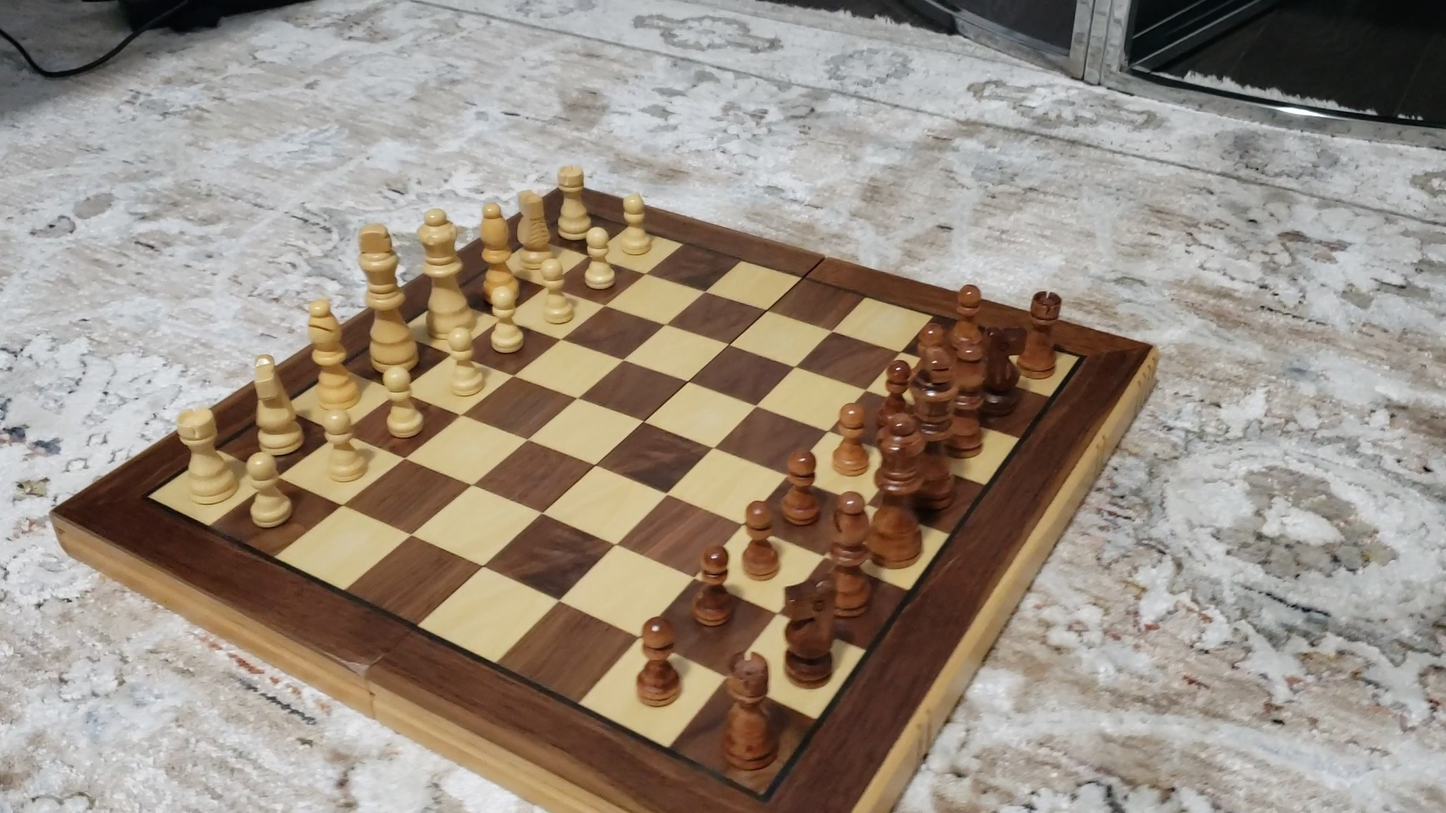black-bishop: (944, 325, 992, 458), (826, 489, 874, 618)
black-king: (908, 348, 964, 515)
black-knight: (780, 573, 838, 687), (980, 313, 1031, 418)
black-pawn: (632, 614, 683, 710), (690, 542, 737, 630), (778, 446, 823, 528), (739, 497, 781, 582), (829, 398, 872, 477), (868, 356, 916, 419), (948, 279, 988, 354)
black-queen: (864, 408, 936, 570)
black-rook: (722, 651, 778, 772), (1017, 288, 1065, 379)
white-bishop: (303, 296, 359, 413), (476, 196, 519, 311)
white-king: (355, 219, 414, 378)
white-knight: (249, 351, 304, 454), (512, 186, 558, 276)
white-pawn: (238, 449, 300, 534), (314, 405, 374, 488), (376, 360, 429, 443), (436, 324, 491, 402), (529, 252, 581, 328), (482, 278, 530, 359), (613, 188, 657, 260), (577, 223, 621, 294)
white-queen: (417, 204, 473, 346)
white-rook: (172, 404, 237, 506), (552, 161, 594, 245)
